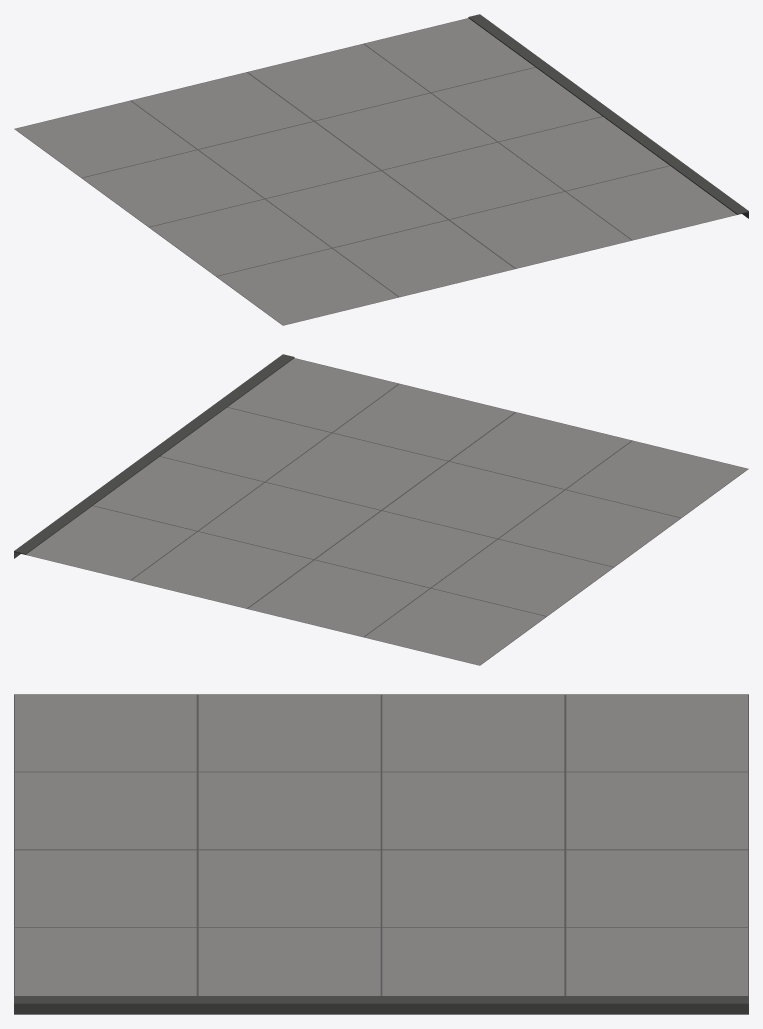
File: M_SideWalk700x700_05.FBX
3 views of the same model, one above another, from view 1: azimuth 30°, elevation 25°; view 2: azimuth 150°, elevation 25°; view 3: azimuth 270°, elevation 25° (orthographic). The views are drawn at different scales.
Parts seen in each view (by area): view 1: M_SideWalk700x700_05; view 2: M_SideWalk700x700_05; view 3: M_SideWalk700x700_05.
Boxes of the visible parts, x1,y1,x2,y2 form: M_SideWalk700x700_05: (14, 14, 748, 325); M_SideWalk700x700_05: (14, 354, 748, 665); M_SideWalk700x700_05: (14, 694, 748, 1014).
Bounding box in the file's own units: 7 × 0.115 × 7.
